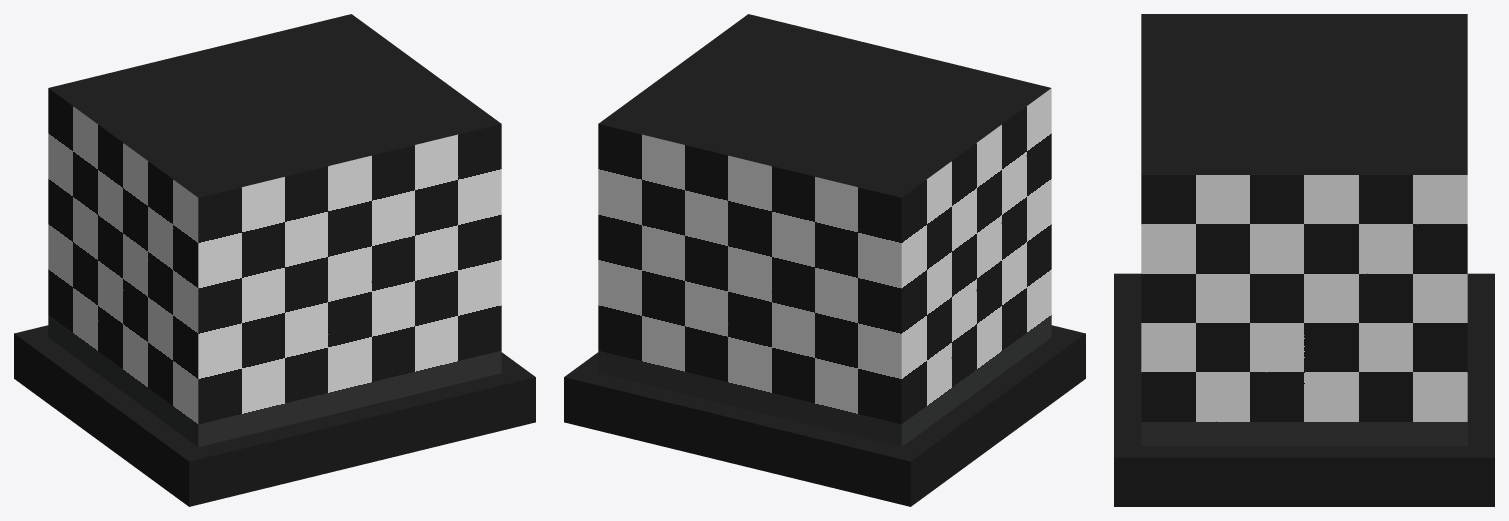
File: zeppelihat.obj
3 renders of one model, left to right at view 1: azimuth 30°, elevation 25°; view 2: azimuth 150°, elevation 25°; view 3: azimuth 270°, elevation 25°, orthographic. The views are drawn at different scales.
Visible parts, largest first — view 1: cube; view 2: cube; view 3: cube.
Boxes of the visible parts, <box> form: cube: <box>14,14,535,506</box>; cube: <box>564,14,1085,506</box>; cube: <box>1114,14,1494,506</box>.
Bounding box in the file's own units: 0.625 × 0.5078 × 0.5469.
